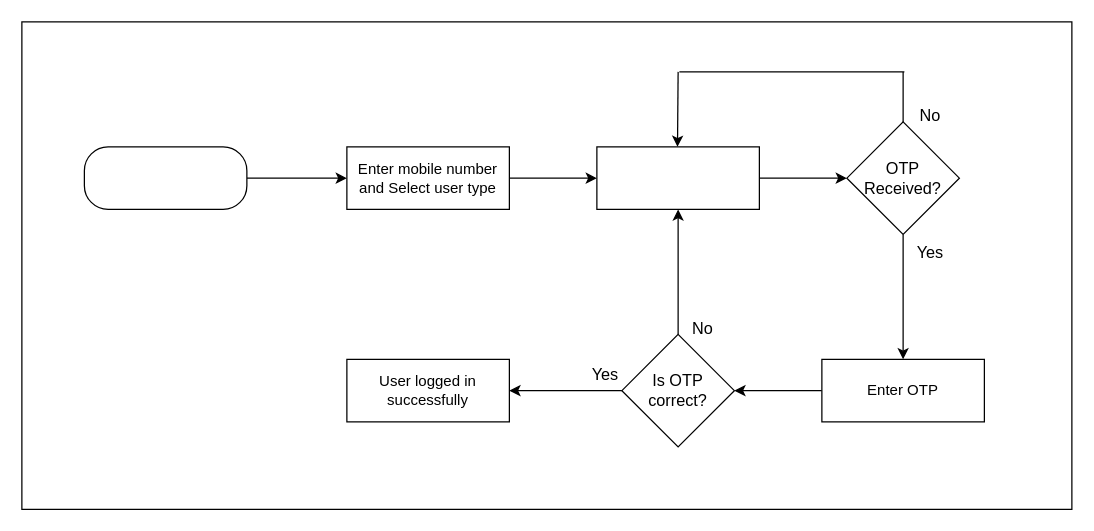
Some shapes in this 1094 by 531 pixel diagram are drawn without their labels. Each missing label, with the centre of its shape:
Request for OTP: (677,177)
User navigate to login page: (165,177)
